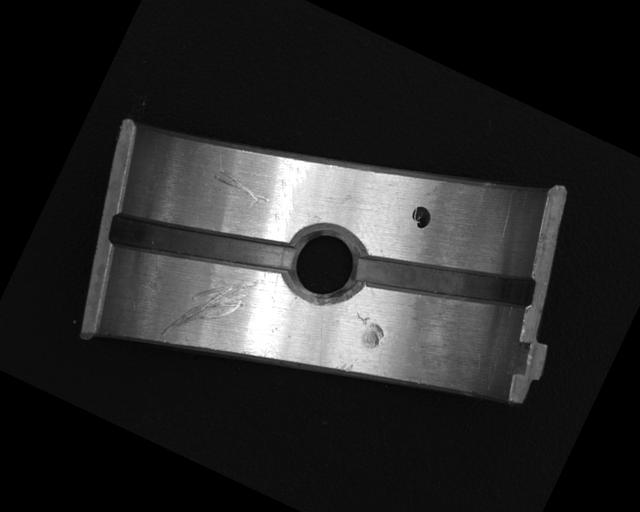blot: (406, 202, 435, 232)
bruise: (345, 312, 387, 353), (334, 356, 356, 375)
gap: (103, 174, 297, 317), (353, 208, 539, 350)
hole: (274, 211, 374, 314)
nick: (161, 251, 262, 364), (209, 168, 272, 209)
